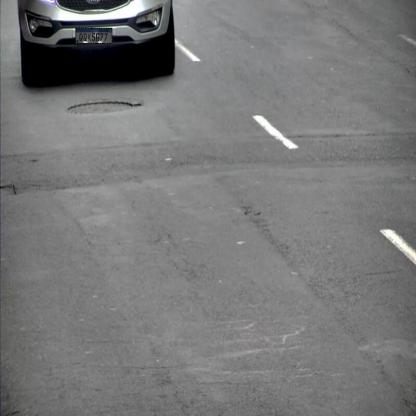PlacaM: (76, 28, 112, 44)
